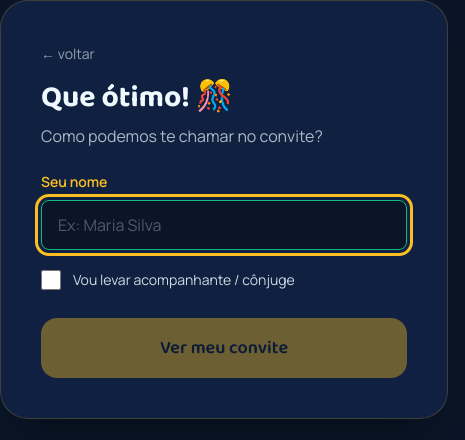
Test: RSVPForm › botão habilita ao digitar nome válido
In the field with placeholder "Ex: Maria Silva": (224, 225) [41,200,407,250], type "Ana"
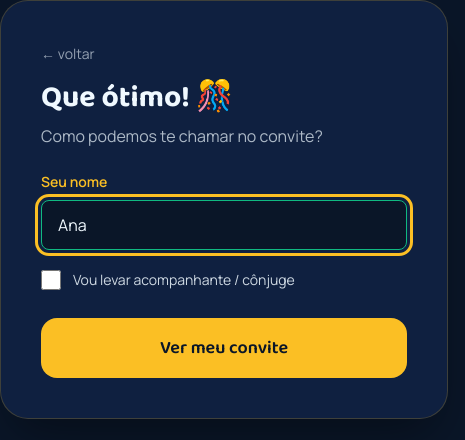
Expected: the button "Ver meu convite" is enabled, [41,318,407,378]
